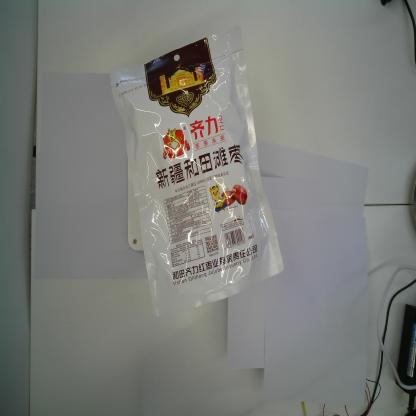Dried Food: (109, 25, 285, 318)
